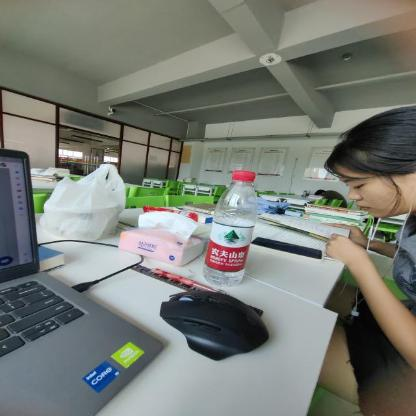Plastic Bottle: (202, 169, 258, 287)
